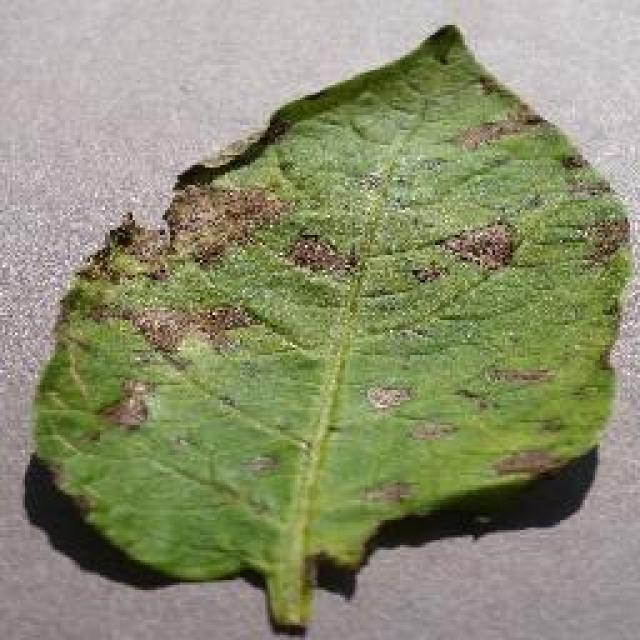early_blight: (27, 20, 635, 635)
